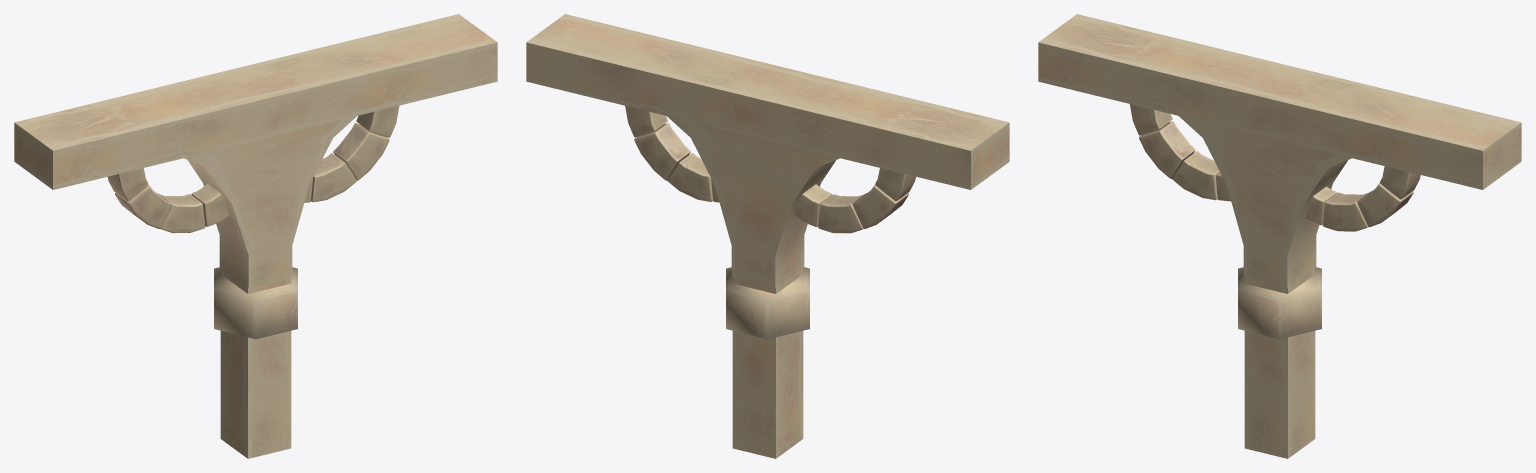
Rendered from railing.fbx.
3 views of the same model, side by side, from view 1: azimuth 30°, elevation 25°; view 2: azimuth 150°, elevation 25°; view 3: azimuth 330°, elevation 25° (orthographic).
Parts seen in each view (by area): view 1: railing_LOD0; view 2: railing_LOD0; view 3: railing_LOD0.
Part boxes in pixels (x1,y1,x2,y2): railing_LOD0: (14,14,497,458); railing_LOD0: (526,14,1009,458); railing_LOD0: (1038,14,1521,458).
Bounding box in the file's own units: 0.9349 × 0.7257 × 0.1528.
